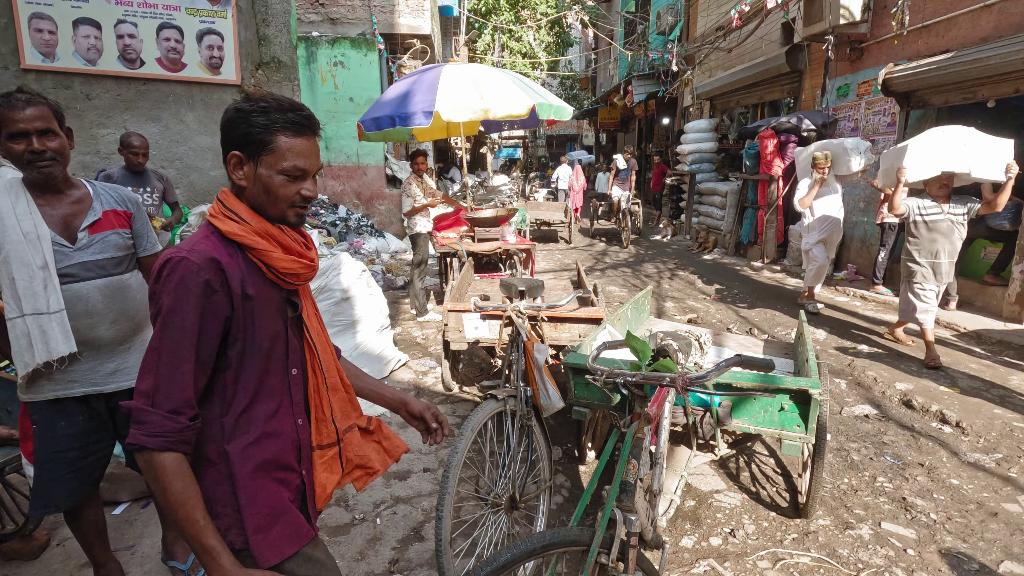garbage: (519, 303, 568, 428), (879, 517, 922, 541), (839, 404, 878, 419)
